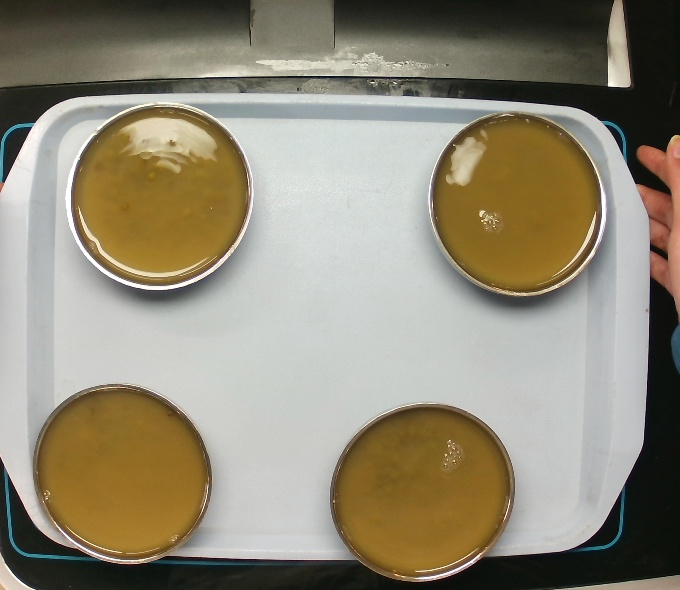wcq-LvDouTang: (67, 104, 250, 288), (328, 403, 513, 577), (429, 112, 604, 293), (31, 383, 210, 556)
